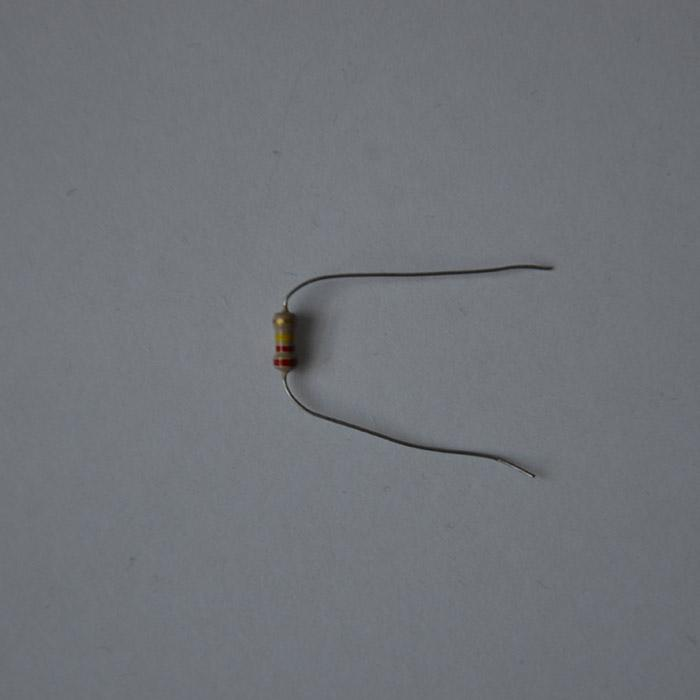resistor: (271, 310, 298, 374)
